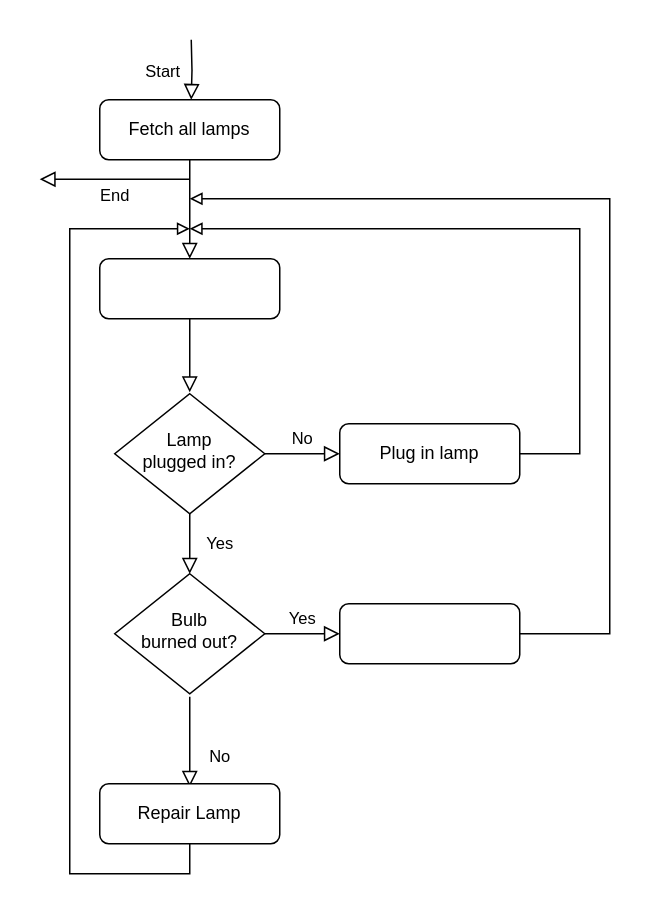
The diagram is 648 pixels wide and 912 high, and some of its shapes have lost their labels. The shapes that lost their labels are listed below. From the top down, each one's box as (x1, y1, x2, y2) in pixels, then its label:
(98, 257, 280, 319): Lamp doesn't work
(338, 602, 520, 664): Replace Bulb
